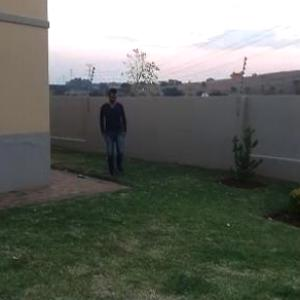follow: (96, 85, 128, 178)
